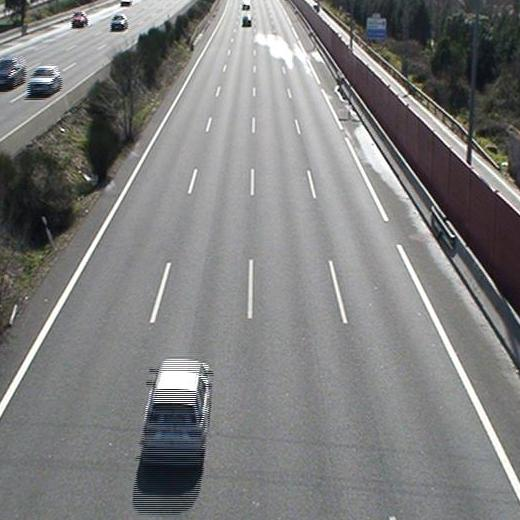car: (143, 357, 211, 470)
